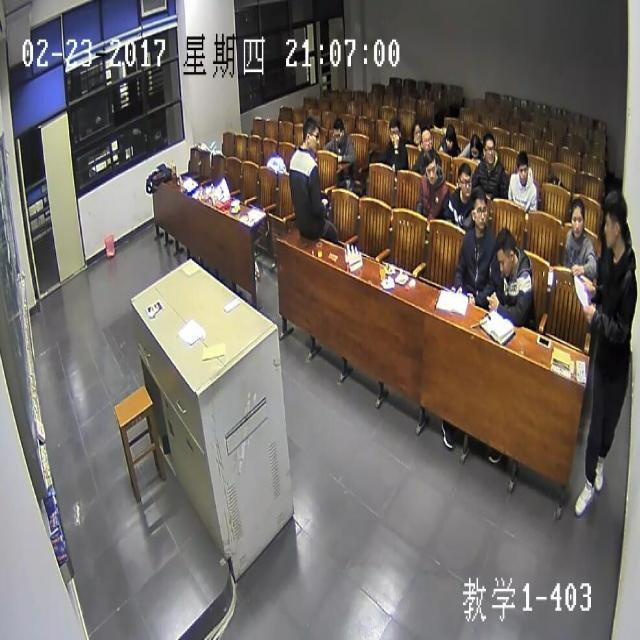no_helmet: (602, 186, 625, 250), (495, 228, 519, 278), (469, 179, 489, 228), (569, 198, 587, 241), (300, 114, 319, 154), (456, 158, 474, 199), (422, 149, 438, 186), (482, 132, 498, 165), (386, 116, 402, 148), (331, 116, 346, 146), (515, 150, 528, 184), (420, 127, 434, 156), (443, 125, 456, 154), (410, 118, 423, 146), (470, 130, 480, 158)
